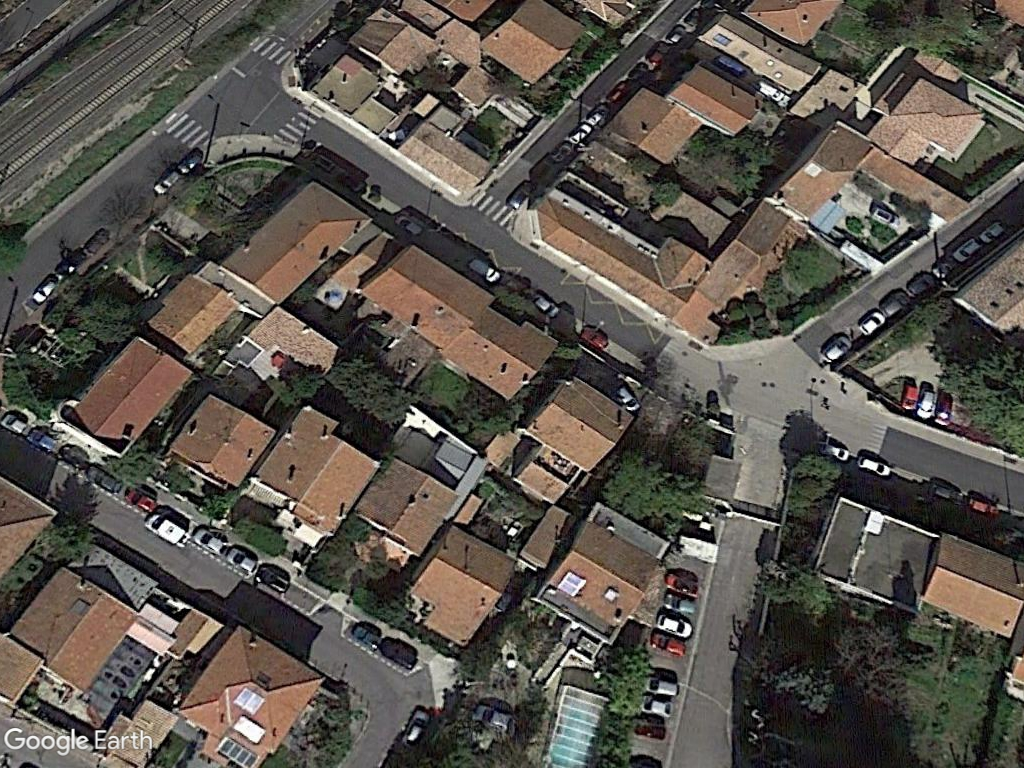car: (656, 609, 697, 642), (856, 452, 890, 479), (814, 439, 852, 462)
van: (143, 508, 191, 546)
